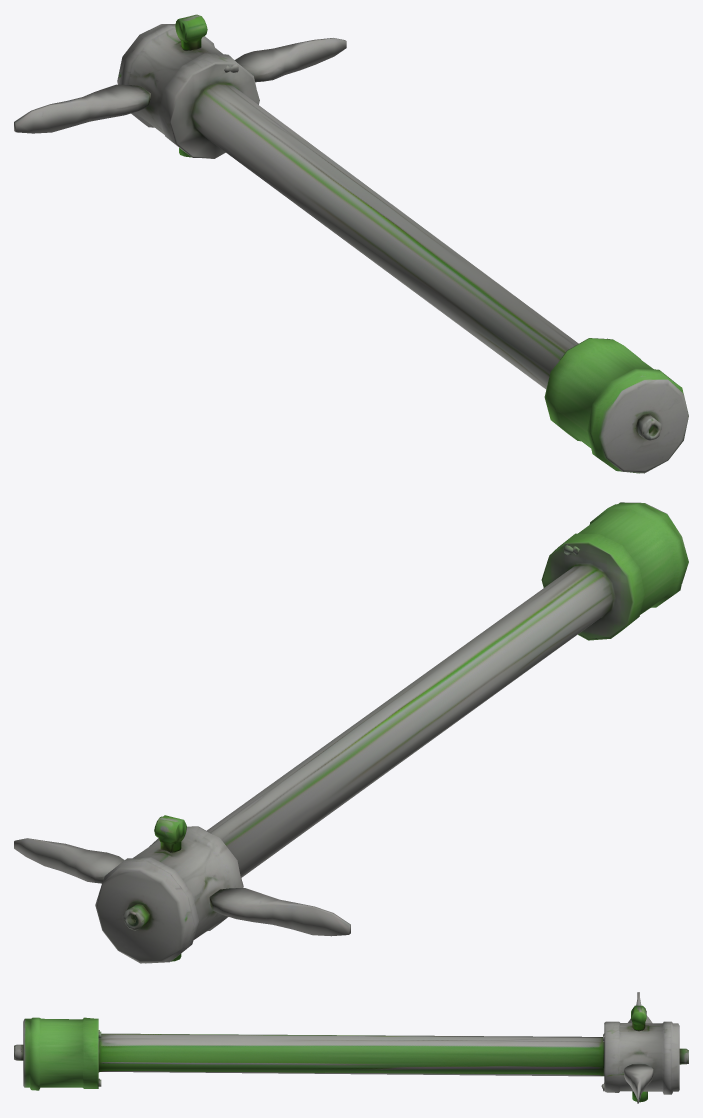
Rendered from green_pipe_segment.glb.
3 renders of one model, top to bottom at view 1: azimuth 30°, elevation 25°; view 2: azimuth 150°, elevation 25°; view 3: azimuth 270°, elevation 25°, orthographic. The views are drawn at different scales.
Visible parts, largest first — view 1: tripo_node_877d7343-f0e7-4820-8f92-b3dc56d04a5b; view 2: tripo_node_877d7343-f0e7-4820-8f92-b3dc56d04a5b; view 3: tripo_node_877d7343-f0e7-4820-8f92-b3dc56d04a5b.
Part boxes in pixels (x1,y1,x2,y2): tripo_node_877d7343-f0e7-4820-8f92-b3dc56d04a5b: (14, 14, 688, 473); tripo_node_877d7343-f0e7-4820-8f92-b3dc56d04a5b: (14, 502, 688, 963); tripo_node_877d7343-f0e7-4820-8f92-b3dc56d04a5b: (14, 992, 688, 1103).
Bounding box in the file's own units: 1.29 × 0.5 × 3.41.
Materials: 1 (1 with a texture image).
